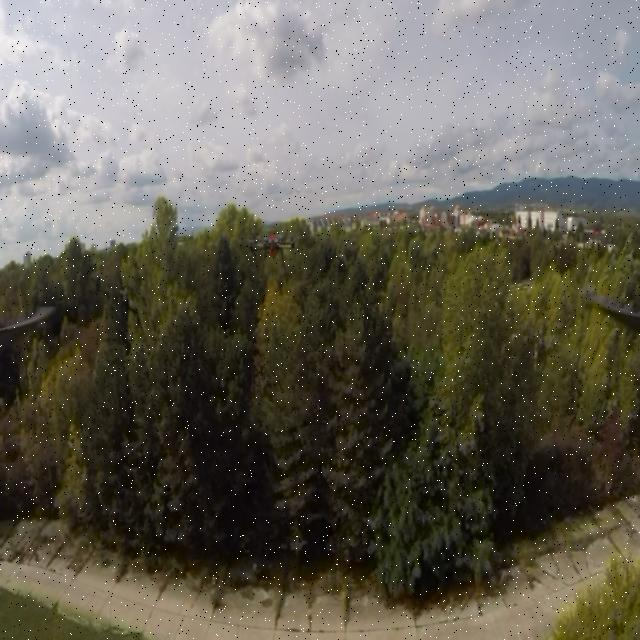UAV: (246, 228, 308, 286)
